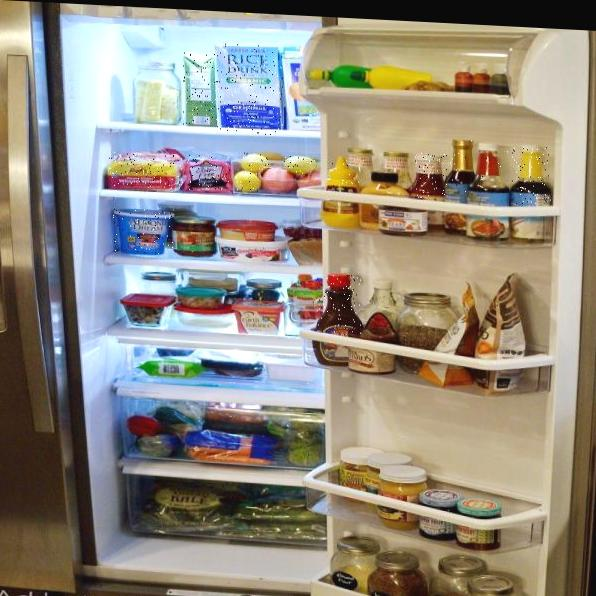apple: (263, 167, 296, 193)
bread: (108, 152, 183, 190), (187, 155, 231, 192)
lemon: (284, 156, 316, 176), (241, 153, 270, 172), (235, 171, 261, 191)
milk: (215, 43, 283, 136), (183, 52, 217, 126)
sauce: (317, 274, 362, 334), (512, 144, 551, 206), (474, 143, 508, 204), (448, 138, 474, 202), (416, 152, 448, 200), (327, 158, 361, 192)
yoghurt: (113, 208, 173, 255)
